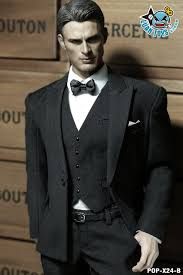F_M_suit jacket: (18, 71, 183, 266)
F_belt: (66, 205, 131, 225)
